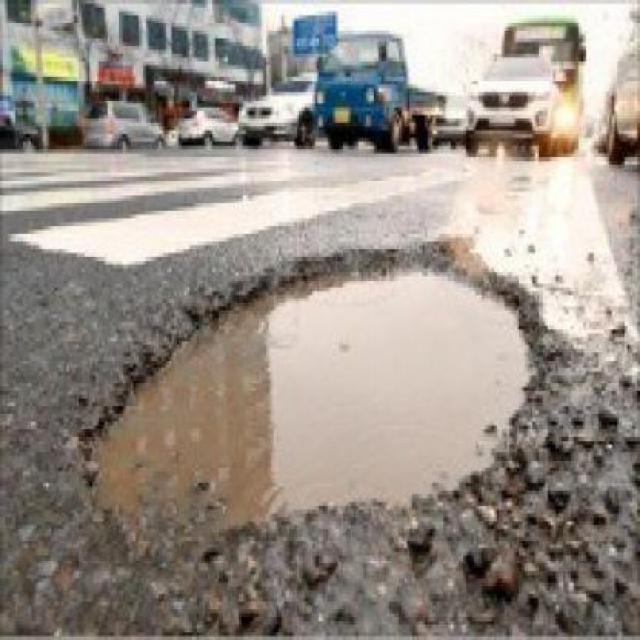pothole: (79, 234, 558, 553)
